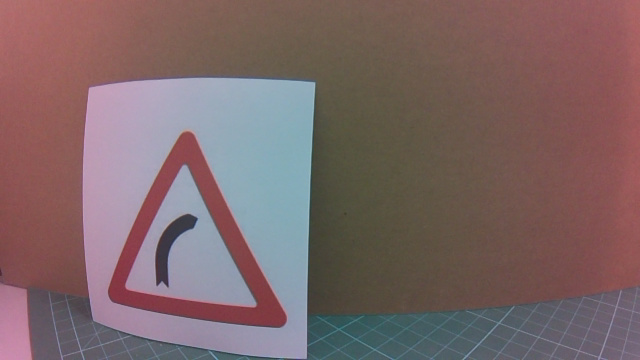right: (105, 150, 283, 326)
